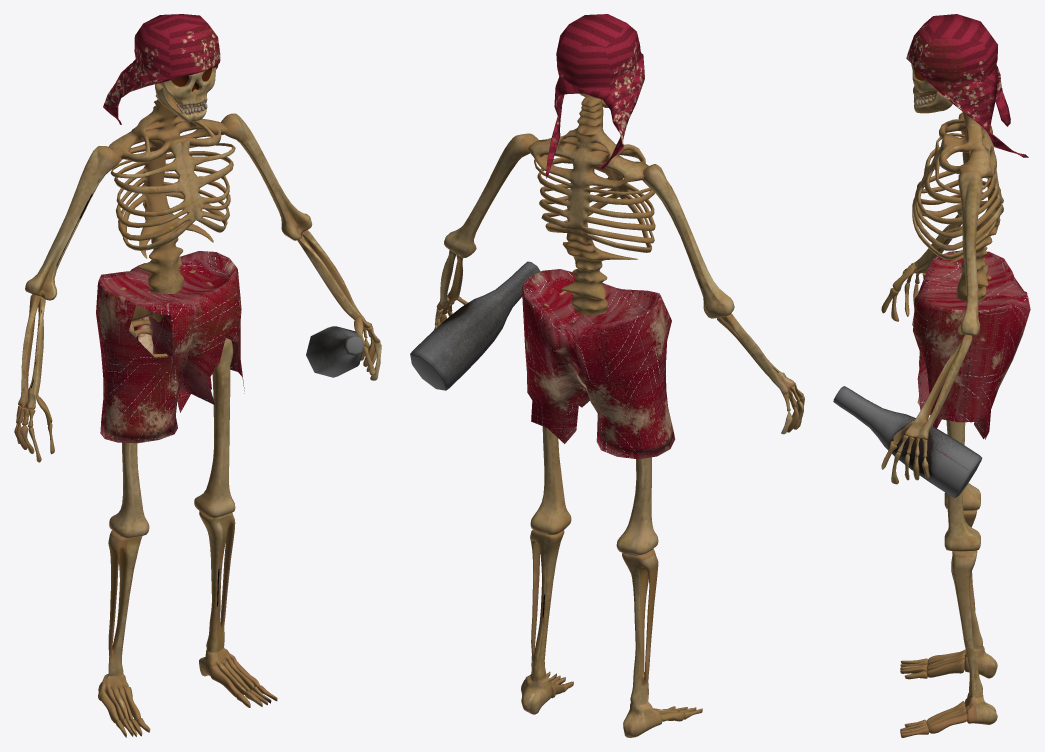
Rendered from skeleton_drunk.glb.
The picture shows the model from 3 angles, left to right: view 1: azimuth 30°, elevation 25°; view 2: azimuth 150°, elevation 25°; view 3: azimuth 270°, elevation 25°; orthographic projection.
Parts seen in each view (by area): view 1: skeleton_drunk; view 2: skeleton_drunk; view 3: skeleton_drunk.
Boxes of the visible parts, <box> form: skeleton_drunk: <box>14,14,381,737</box>; skeleton_drunk: <box>410,14,804,737</box>; skeleton_drunk: <box>833,14,1030,737</box>.
Size of the model in its own units: 1.05 by 1.9 by 0.4972.
Materials: 2 (2 with a texture image).
